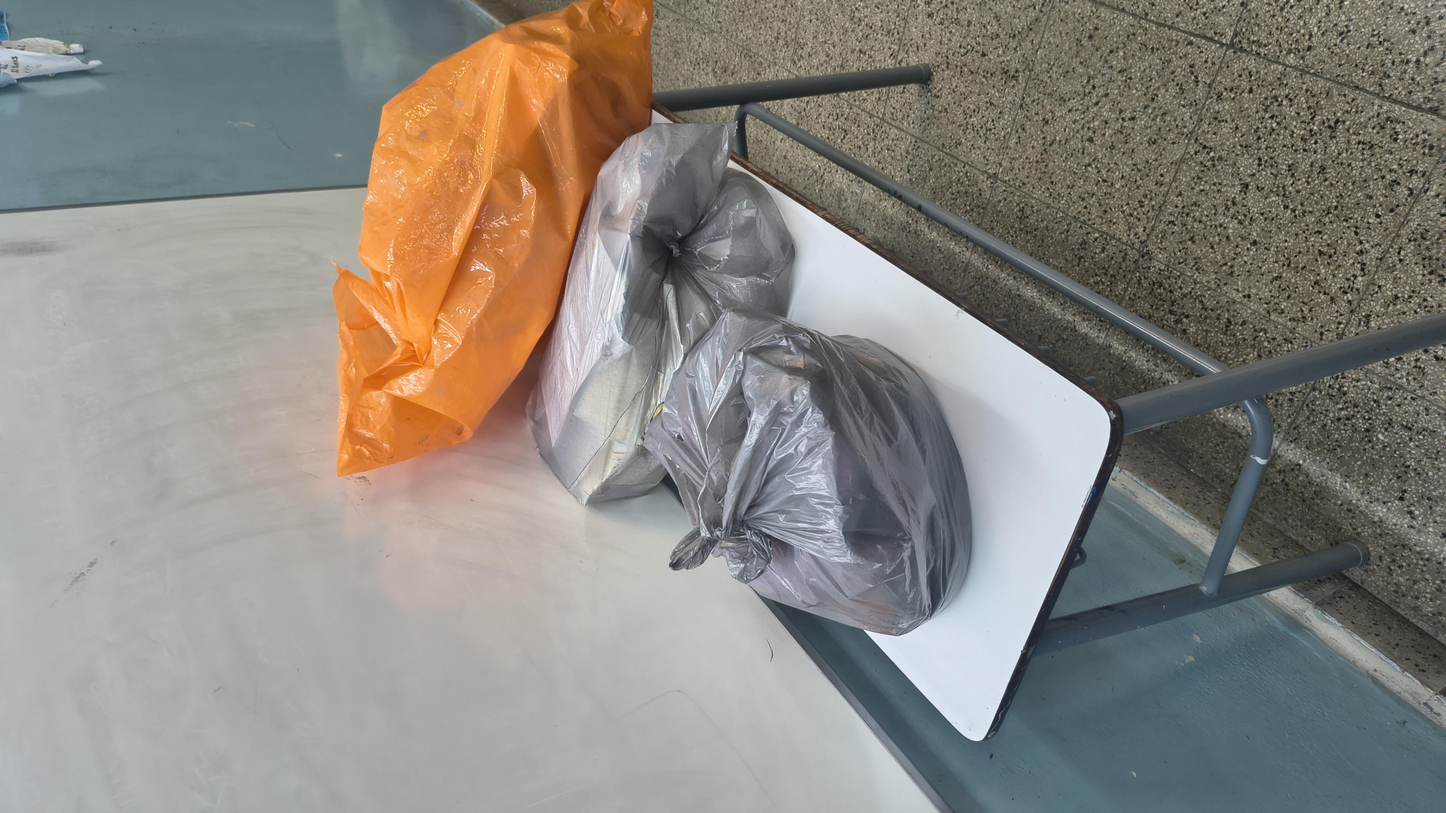Garbage: (571, 175, 1446, 391), (188, 367, 935, 564), (540, 288, 1312, 451)
